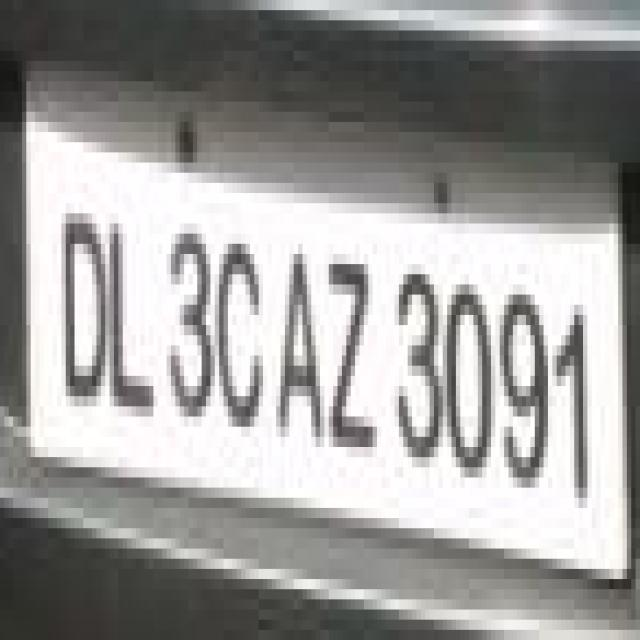license_plate: (4, 132, 605, 528)
